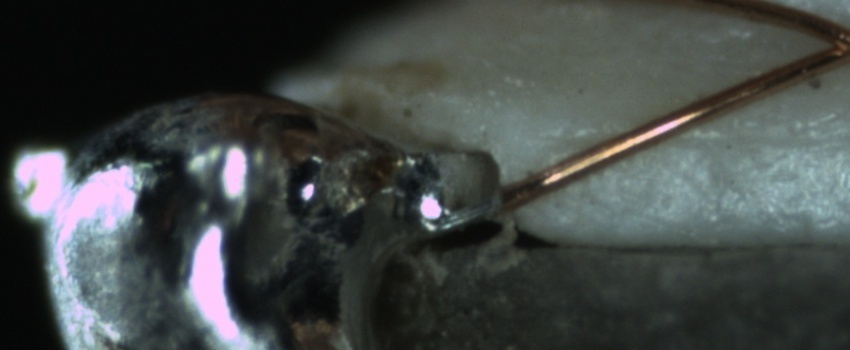CL: (801, 13, 850, 73)
DL: (546, 107, 849, 170)
TS: (427, 185, 503, 237)
